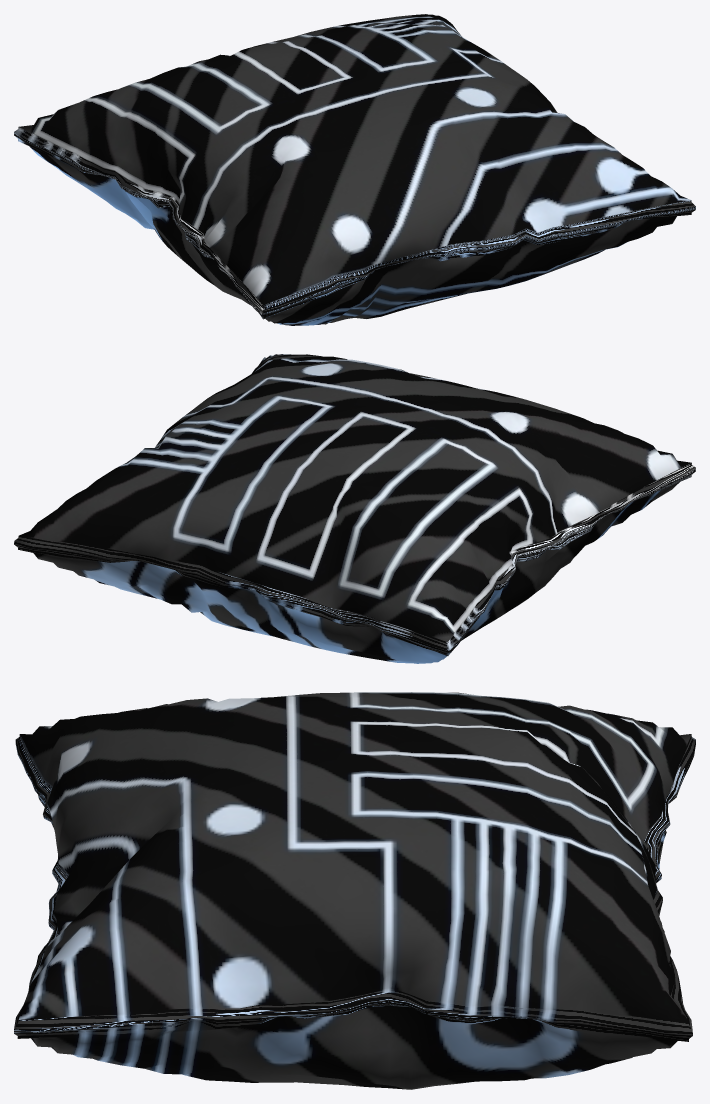
3 views of the same model, one above another, from view 1: azimuth 30°, elevation 25°; view 2: azimuth 150°, elevation 25°; view 3: azimuth 270°, elevation 25° (orthographic). The views are drawn at different scales.
Parts seen in each view (by area): view 1: Cube; view 2: Cube; view 3: Cube.
Boxes of the visible parts, x1=… form: Cube: x1=14, y1=14, x2=695, y2=325; Cube: x1=14, y1=354, x2=695, y2=663; Cube: x1=14, y1=692, x2=695, y2=1089.
Size of the model in its own units: 1.95 by 0.8063 by 1.92.
1 material, 1 textured.
